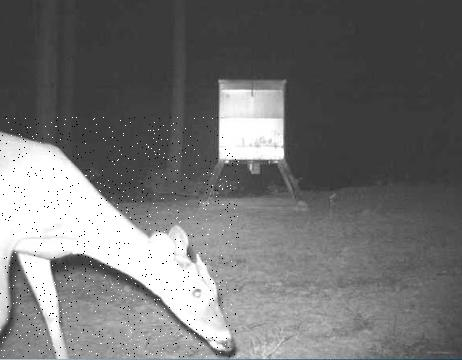Deer: (0, 116, 239, 357)
